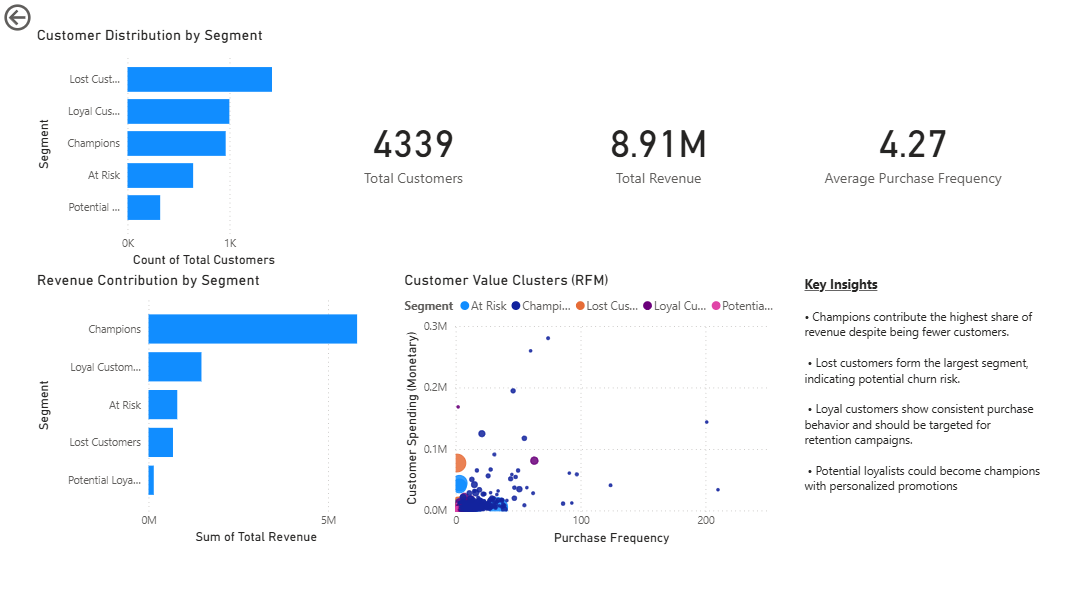

The dashboard page shown, as its layout file describes it:
{"tool":"powerbi","page":{"name":"Page 1","canvas":[1280,720],"ordinal":0},"visuals":[{"type":"clusteredBarChart","title":"Customer Distribution by Segment","fields":{"Category":["rfm_customer_segments.Segment"],"Y":["CountNonNull(rfm_customer_segments.CustomerID)"]},"box":[37.1,30,295.7,280],"z":0},{"type":"clusteredBarChart","title":"Revenue Contribution by Segment","fields":{"Category":["rfm_customer_segments.Segment"],"Y":["Sum(rfm_customer_segments.Monetary)"]},"box":[37,310,393,317],"z":1},{"type":"scatterChart","title":"Customer Value Clusters (RFM)","fields":{"X":["Sum(rfm_customer_segments.Frequency)"],"Y":["rfm_customer_segments.Monetary"],"Size":["Sum(rfm_customer_segments.Recency)"],"Series":["rfm_customer_segments.Segment"]},"box":[457.1,310,435.7,317.1],"z":2},{"type":"card","title":"Total Customers","fields":{"Values":["CountNonNull(rfm_customer_segments.CustomerID)"]},"box":[332.9,30,280,280],"z":3},{"type":"card","title":"Total Revenue","fields":{"Values":["Sum(rfm_customer_segments.Monetary)"]},"box":[613,30,280,280],"z":4},{"type":"card","title":"Average Purchase Frequency","fields":{"Values":["Avg(rfm_customer_segments.Frequency)"]},"box":[892.9,30,301.4,280],"z":5},{"type":"actionButton","box":[0,0,100,40],"z":6},{"type":"textbox","box":[914.3,310,280,307.1],"z":7}]}

Visuals, with their boxes on the page's 1280x720 design canvas (x1, y1, x2, y2). These are canvas units, not pixel positions in the 1090x593 screenshot, which may show the page scaled, cropped or inside an application window:
"Customer Distribution by Segment" clusteredBarChart: box(37, 30, 333, 310)
"Revenue Contribution by Segment" clusteredBarChart: box(37, 310, 430, 627)
"Customer Value Clusters (RFM)" scatterChart: box(457, 310, 893, 627)
"Total Customers" card: box(333, 30, 613, 310)
"Total Revenue" card: box(613, 30, 893, 310)
"Average Purchase Frequency" card: box(893, 30, 1194, 310)
actionButton: box(0, 0, 100, 40)
textbox: box(914, 310, 1194, 617)
